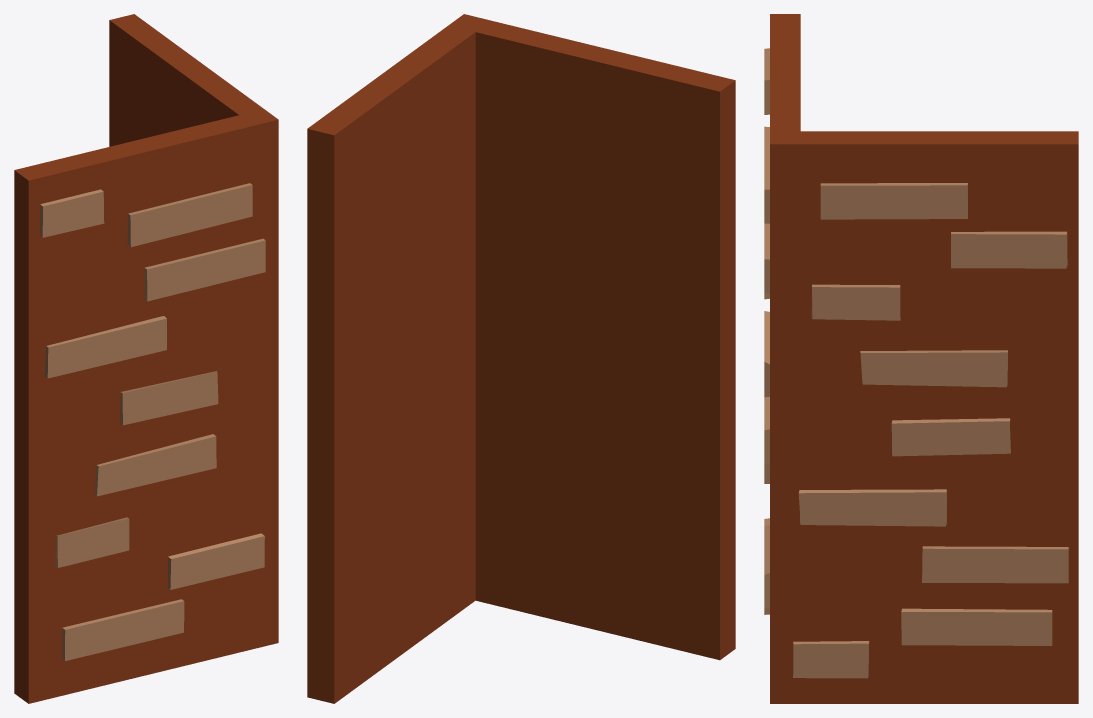
Rendered from BrickV2Corner.fbx.
3 renders of one model, left to right at view 1: azimuth 30°, elevation 25°; view 2: azimuth 150°, elevation 25°; view 3: azimuth 270°, elevation 25°, orthographic. The views are drawn at different scales.
Visible parts, largest first — view 1: BrickV2Corner; view 2: BrickV2Corner; view 3: BrickV2Corner.
Part boxes in pixels (x1,y1,x2,y2): BrickV2Corner: [14, 14, 278, 703]; BrickV2Corner: [307, 14, 735, 703]; BrickV2Corner: [764, 14, 1078, 703].
Size of the model in its own units: 102 by 200 by 102.
